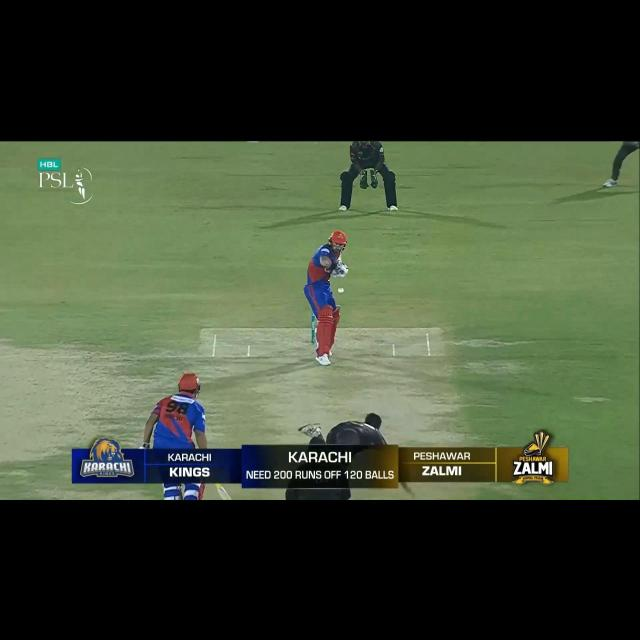bat: (215, 484, 230, 500)
